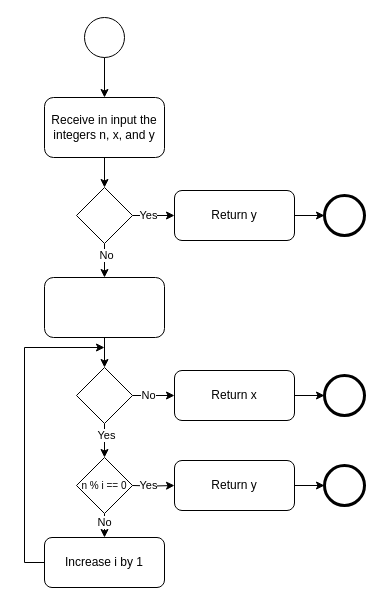
Image size: 383x605. Some labels were removed from this diagram. The box of each missing label's shape, as (x1, y1, x2, y2) in pixels:
i <= sqrt(n): (76, 366, 132, 424)
n equal to 1?: (76, 186, 132, 244)
Set i = 2: (44, 276, 164, 338)
